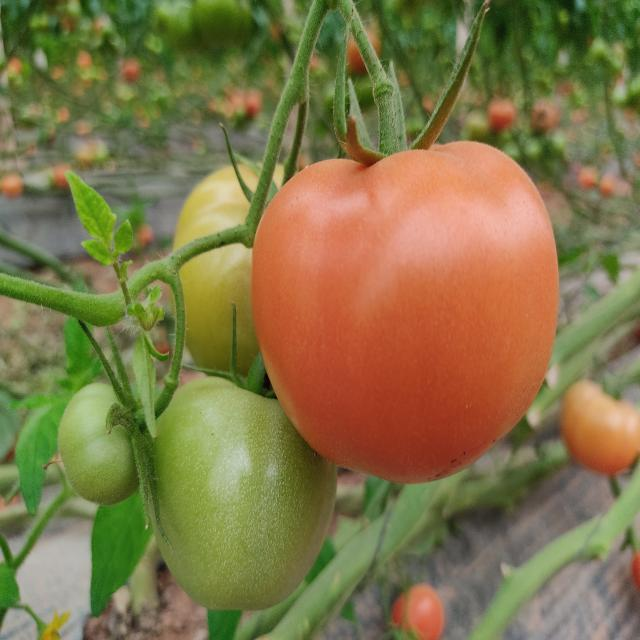Ripe Tomato: (252, 141, 558, 481)
Unripe Tomato: (146, 379, 334, 612), (170, 163, 297, 378), (59, 391, 146, 502)
